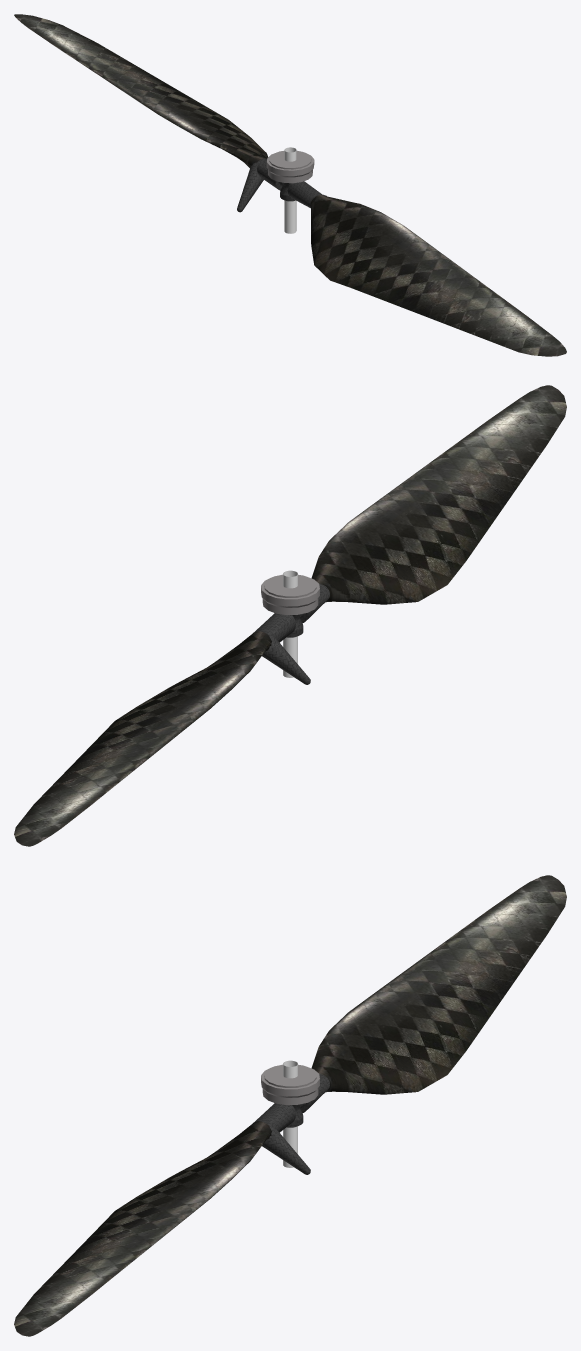
The model's file is ingenuity_prop_cw.dae.
3 views of the same model, one above another, from view 1: azimuth 30°, elevation 25°; view 2: azimuth 150°, elevation 25°; view 3: azimuth 330°, elevation 25° (orthographic). The views are drawn at different scales.
Visible parts, largest first — view 1: rotors_01; view 2: rotors_01; view 3: rotors_01.
Part boxes in pixels (box(x1,y1,x2,y2)): rotors_01: box(14, 14, 566, 356); rotors_01: box(14, 385, 566, 846); rotors_01: box(14, 875, 566, 1336).
Bounding box in the file's own units: 0.1253 × 1.21 × 0.1117.
4 materials, 2 textured.
